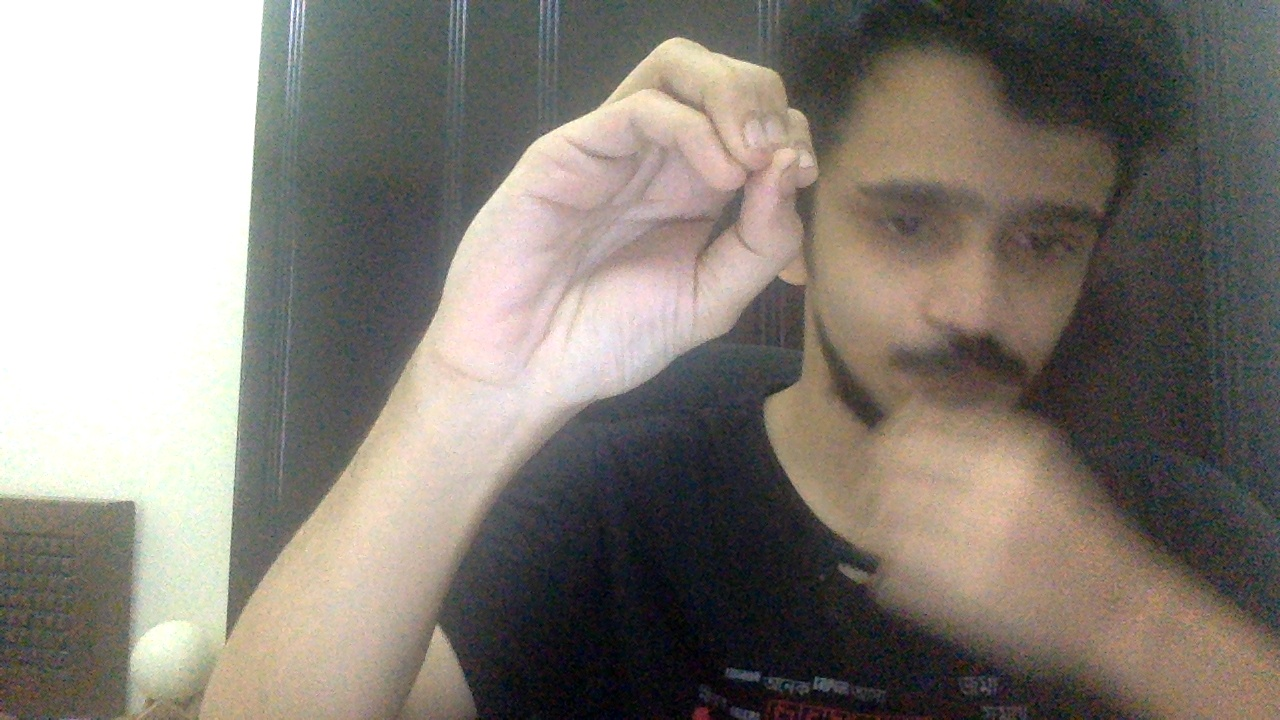zero: (431, 34, 822, 413)
